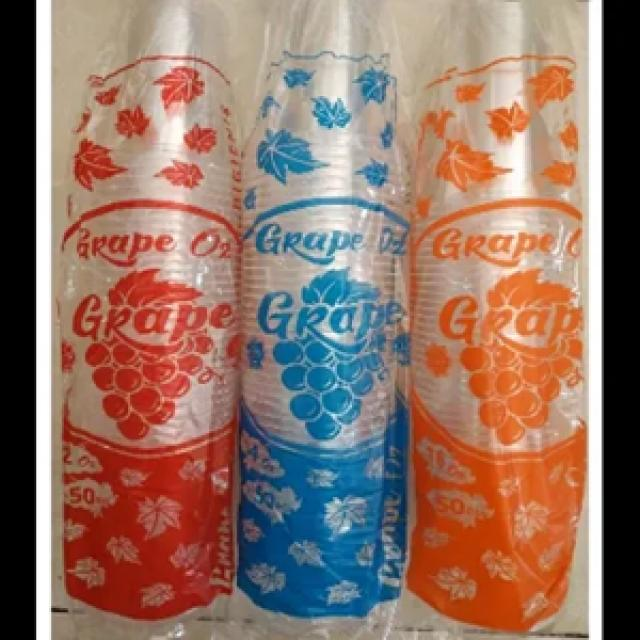plastic cup: (51, 8, 239, 621), (239, 4, 412, 627), (412, 4, 580, 627)
